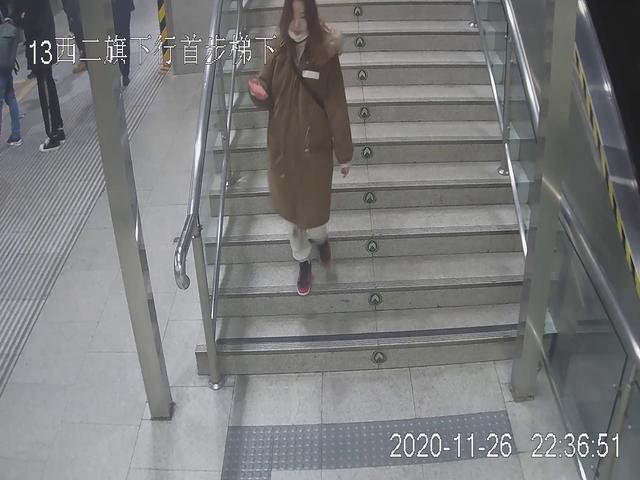person: (243, 1, 356, 298), (11, 1, 68, 156)
